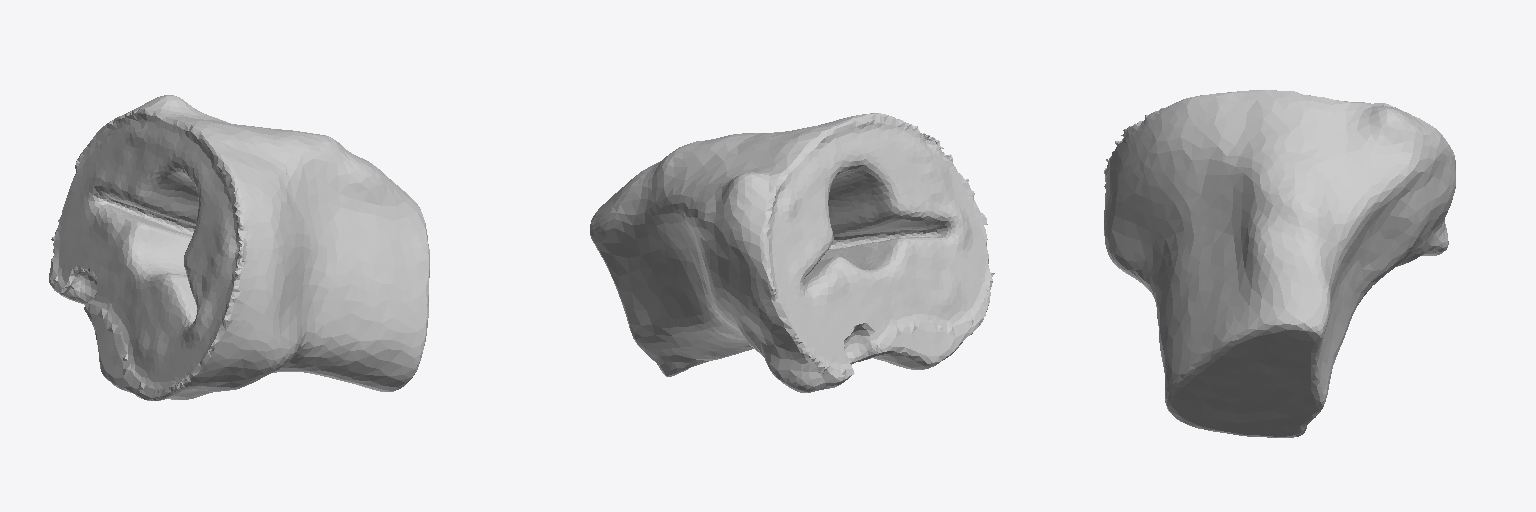
File: TibPerCut.obj
The picture shows the model from 3 angles: view 1: azimuth 30°, elevation 25°; view 2: azimuth 150°, elevation 25°; view 3: azimuth 270°, elevation 25°; orthographic projection.
Visible parts, largest first — view 1: Knee_Prosthesis_3_Knee_Prosthesis_3.001; view 2: Knee_Prosthesis_3_Knee_Prosthesis_3.001; view 3: Knee_Prosthesis_3_Knee_Prosthesis_3.001.
Boxes of the visible parts, <box> form: Knee_Prosthesis_3_Knee_Prosthesis_3.001: <box>49,95,429,400</box>; Knee_Prosthesis_3_Knee_Prosthesis_3.001: <box>590,113,994,392</box>; Knee_Prosthesis_3_Knee_Prosthesis_3.001: <box>1104,90,1455,437</box>.
Bounding box in the file's own units: 34.32 × 27.82 × 32.13.